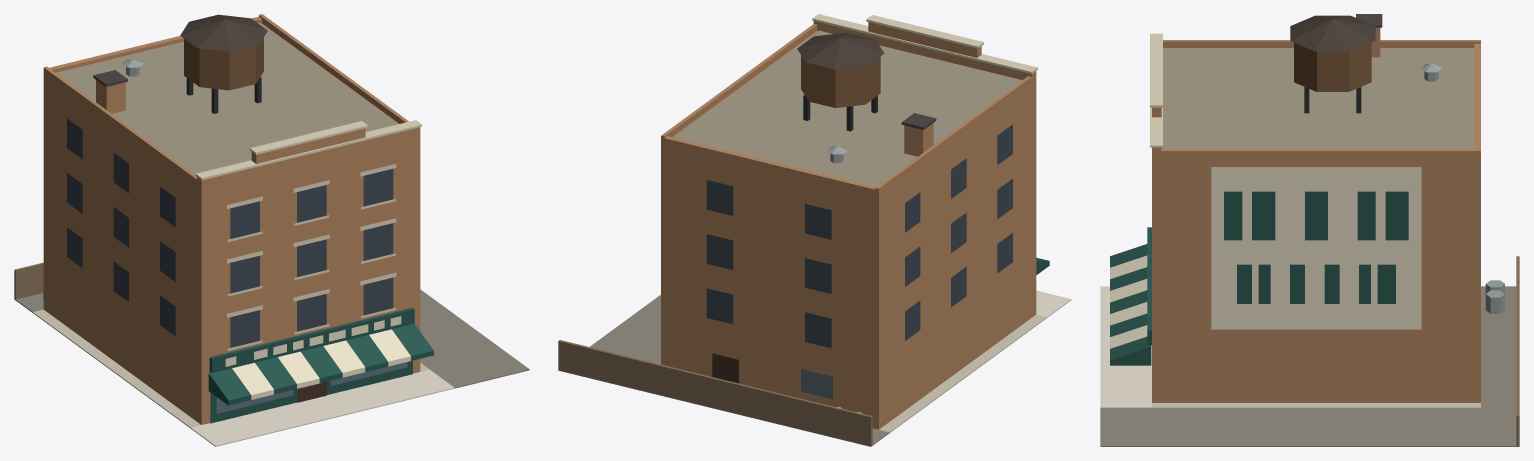
Rendered from shop_u.glb.
3 renders of one model, left to right at view 1: azimuth 30°, elevation 25°; view 2: azimuth 150°, elevation 25°; view 3: azimuth 270°, elevation 25°, orthographic. The views are drawn at different scales.
Visible parts, largest first — view 1: shop_u; view 2: shop_u; view 3: shop_u.
Boxes of the visible parts, x1,y1,x2,y2 form: shop_u: (14,14,529,446); shop_u: (558,14,1071,446); shop_u: (1100,14,1519,446).
Size of the model in its own units: 18 by 17.33 by 20.
